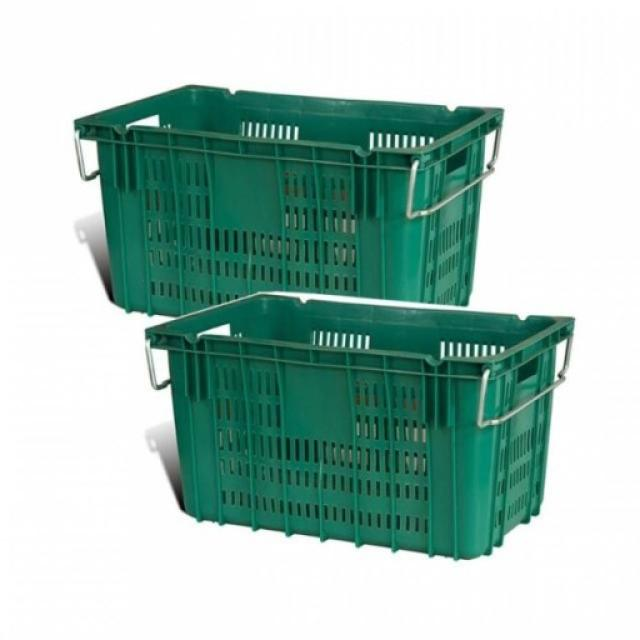basket: (129, 283, 574, 566), (63, 77, 504, 338)
